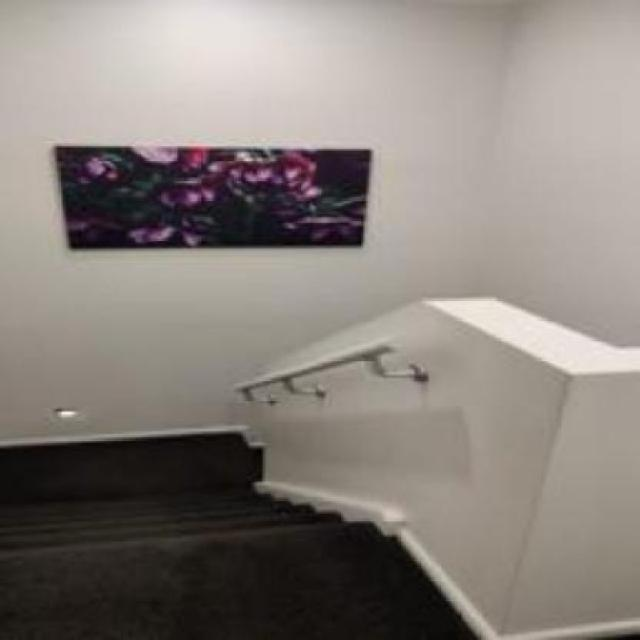stair: (0, 472, 395, 589)
